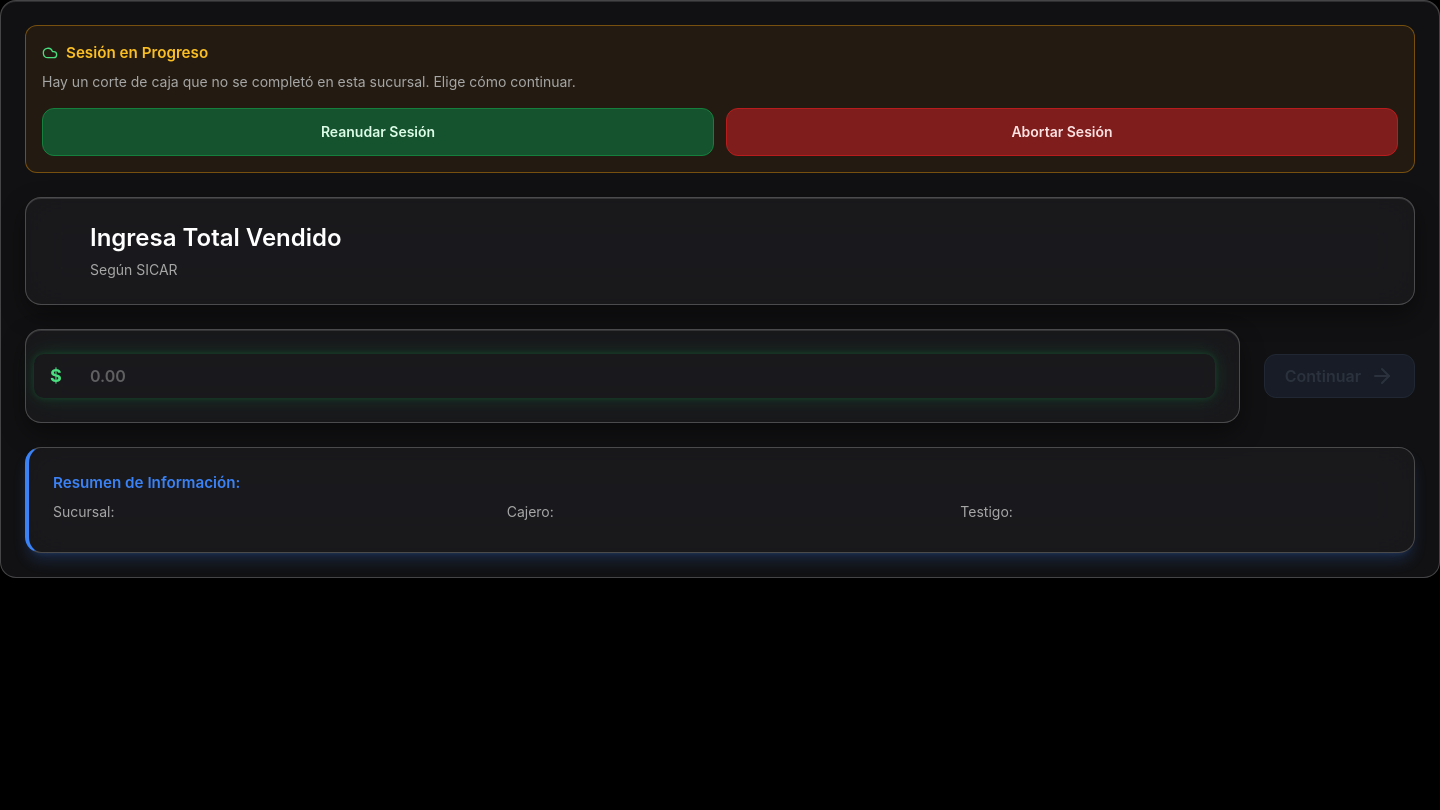
Test: R3-B5: Step5SicarInput — feedback al abortar sesión › muestra modal de confirmación al presionar Abortar
This screenshot has width=1440, height=810.
Click the button "Abortar Sesión".
click(1062, 132)  # box [726,108,1398,156]
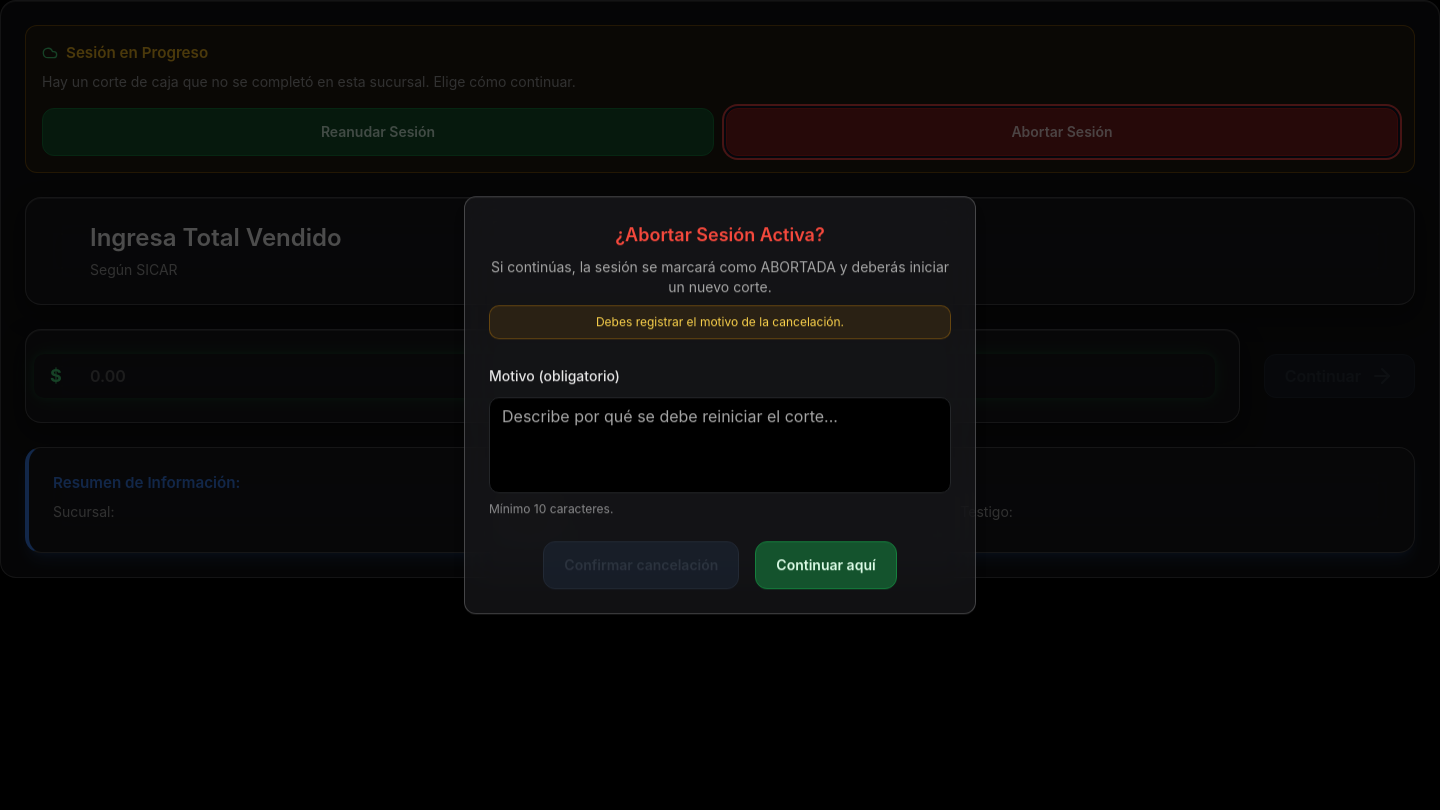
Result: the heading "¿Abortar Sesión Activa?" is shown at [615,224,825,245]
